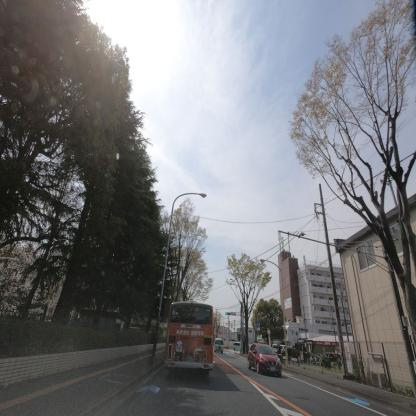Someiyoshino: (0, 227, 74, 324)
